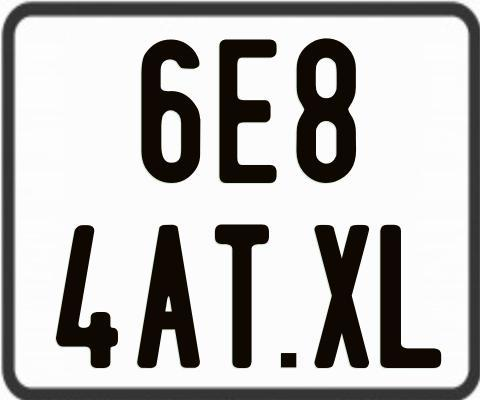4: (55, 223, 118, 368)
6: (138, 37, 198, 181)
8: (295, 37, 359, 187)
A: (135, 224, 198, 368)
E: (216, 38, 278, 182)
L: (378, 222, 443, 370)
T: (213, 221, 268, 369)
X: (313, 223, 372, 368)
